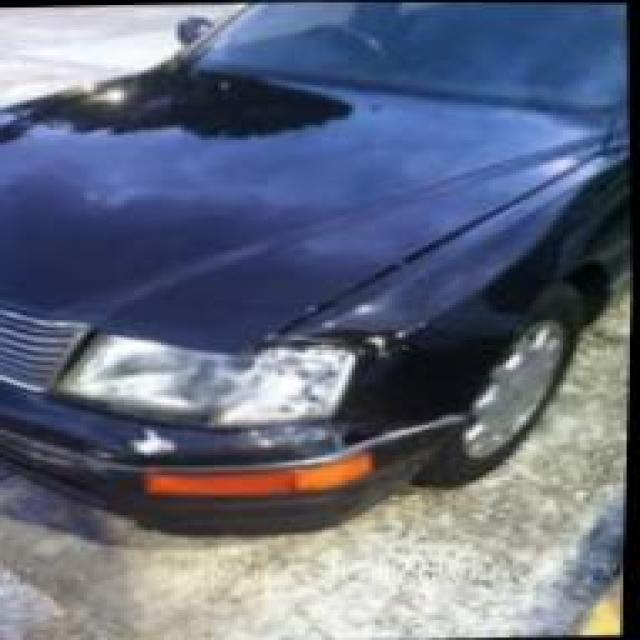Light: (56, 332, 347, 424)
